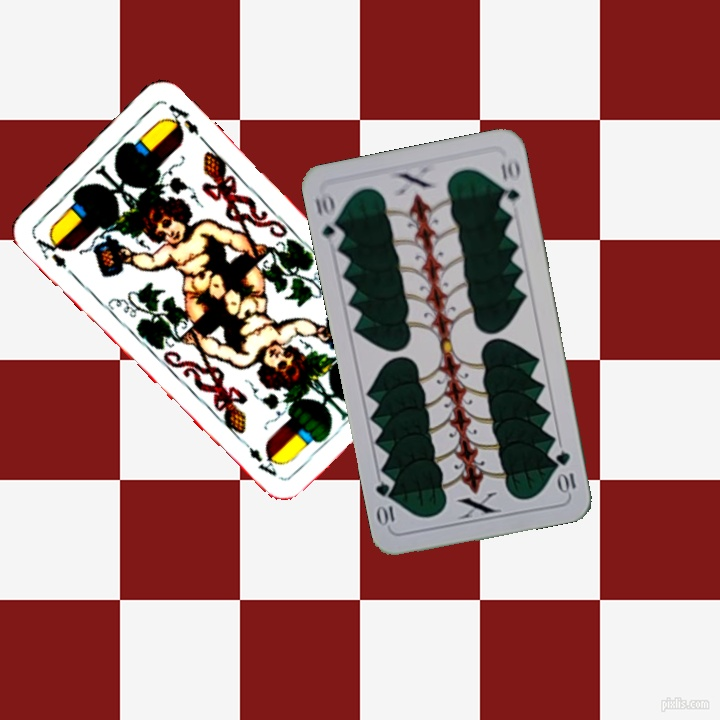EA: (30, 231, 70, 271)
G10: (311, 188, 346, 248), (552, 447, 579, 496)
